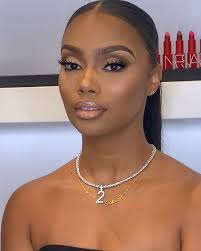person: (57, 1, 163, 143)
